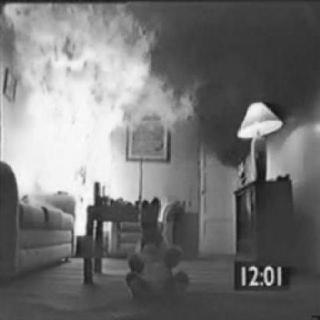Fire: (4, 3, 183, 250)
